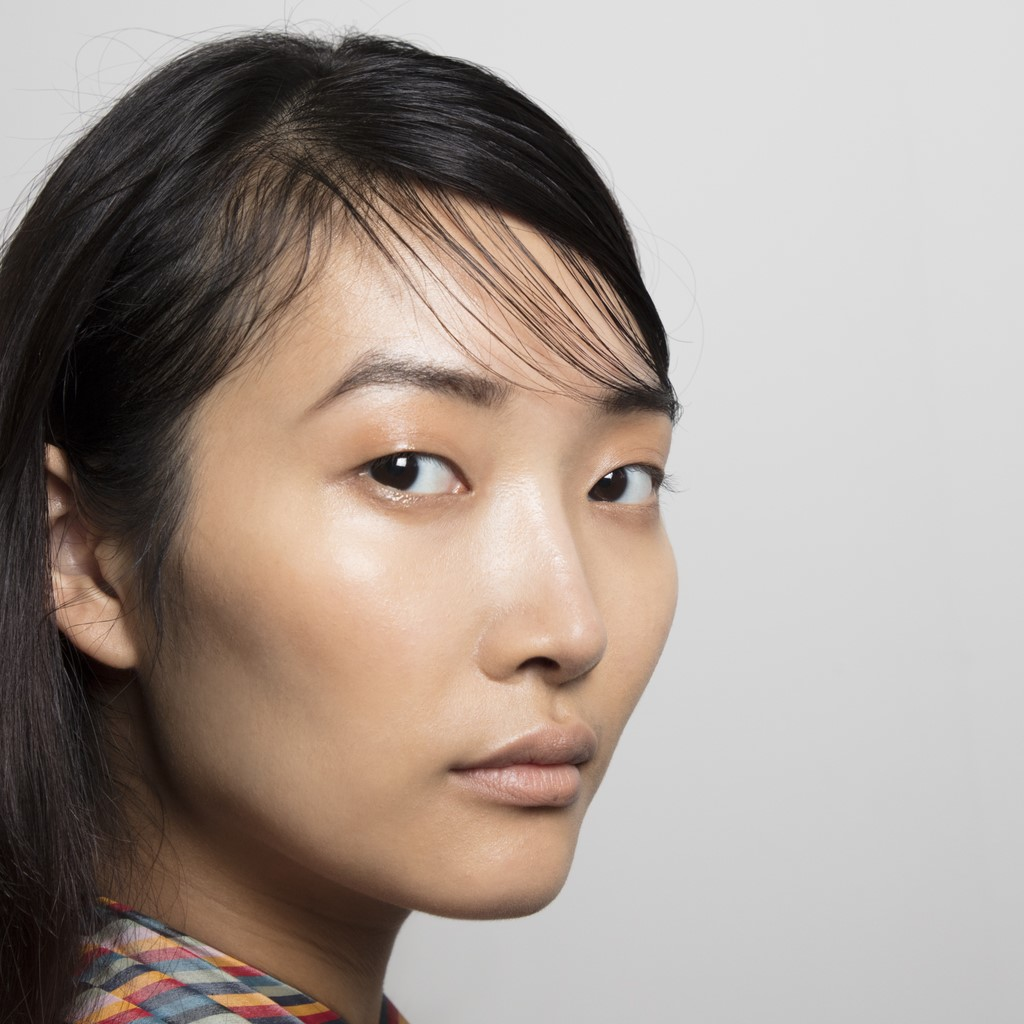sin_mascara: (128, 87, 679, 945)
